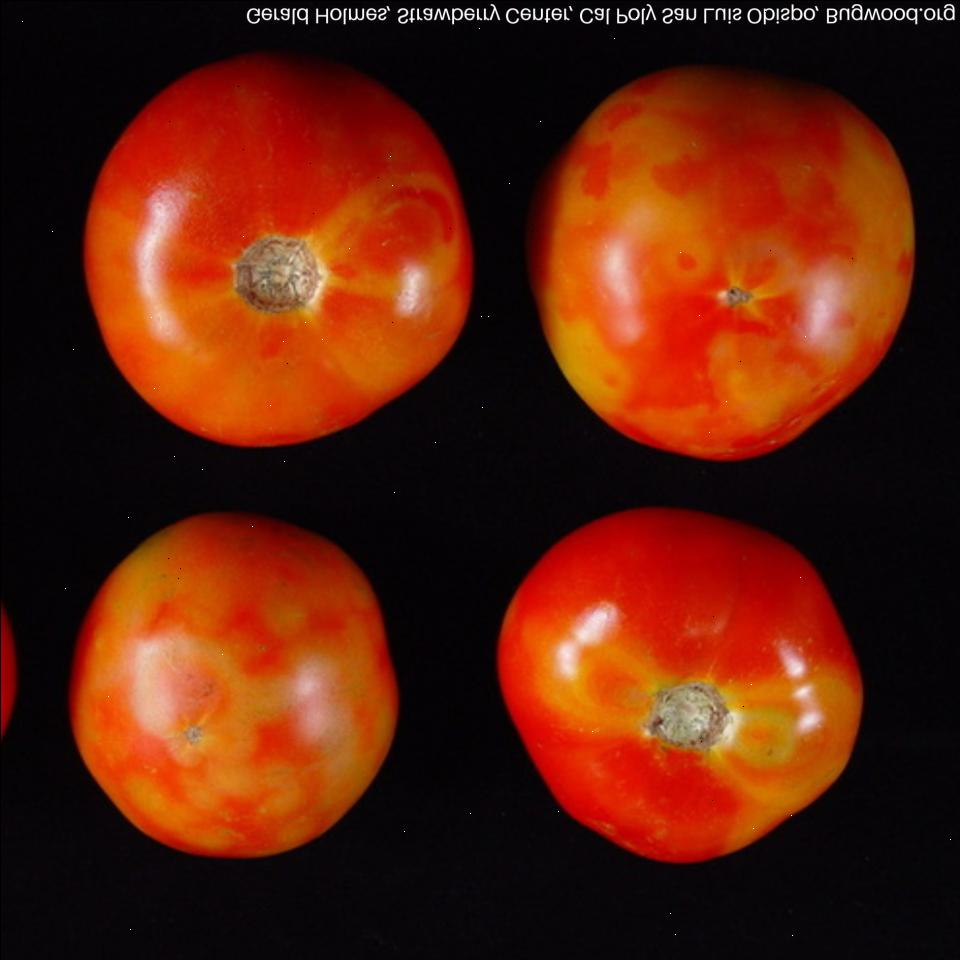Spotted wilt Virus: (524, 51, 918, 461), (83, 44, 474, 455), (492, 503, 862, 866), (68, 512, 398, 862)
